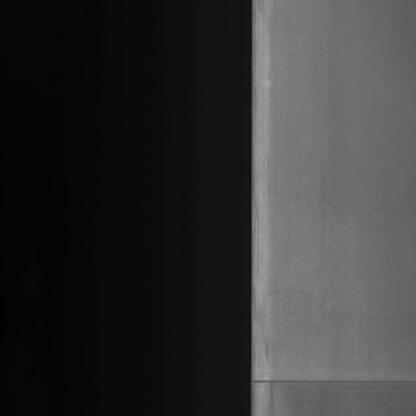welding_line: (242, 364, 414, 397)
